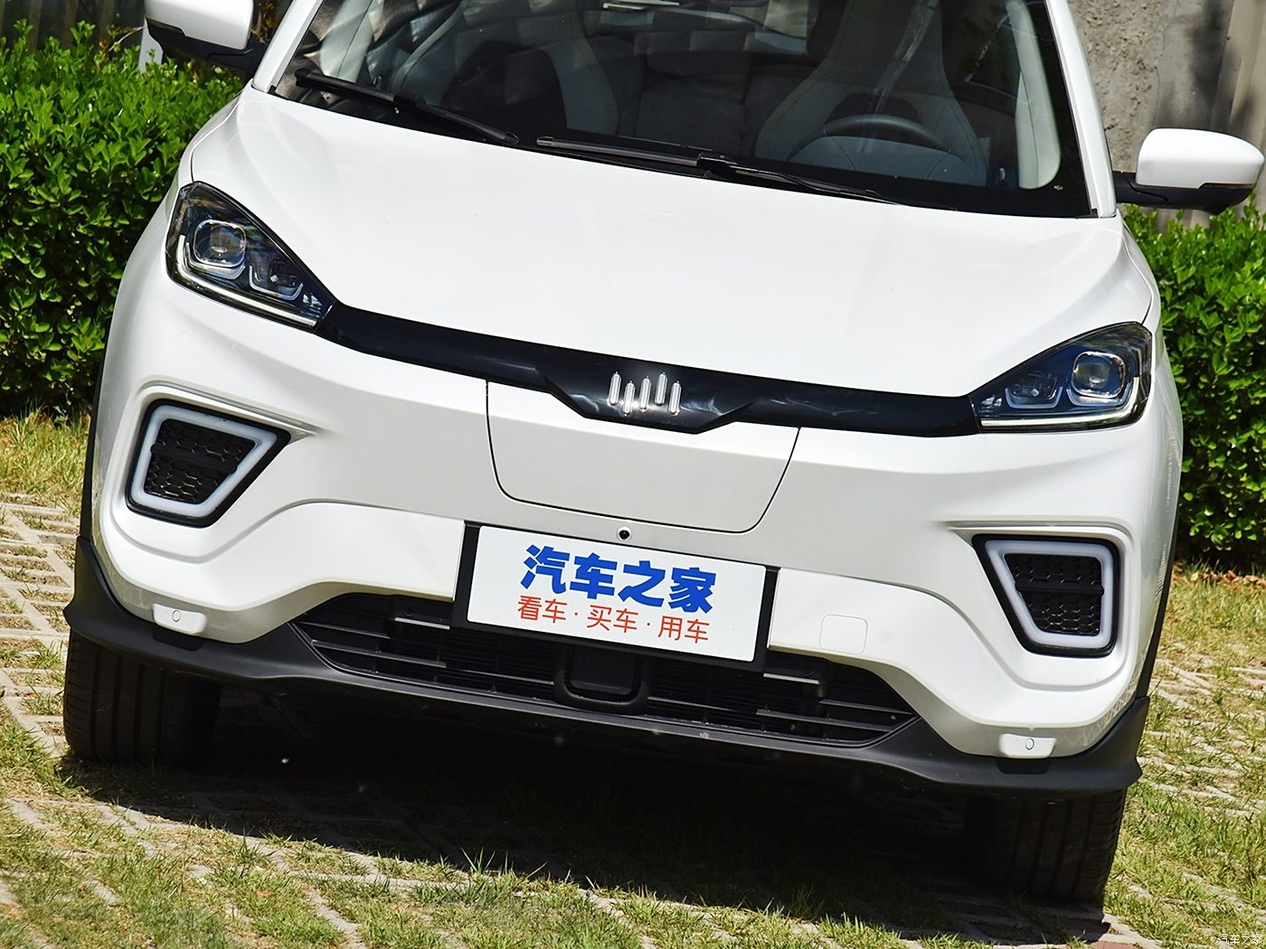WELTMEISTER: (609, 374, 680, 412)
